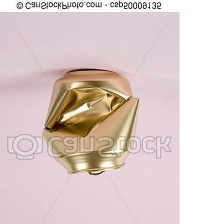can: (38, 59, 143, 177)
